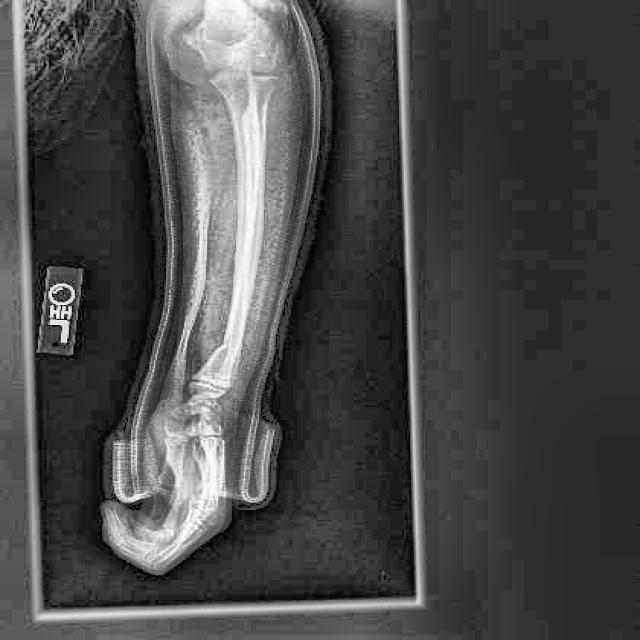forearm fracture: (204, 334, 265, 378)
